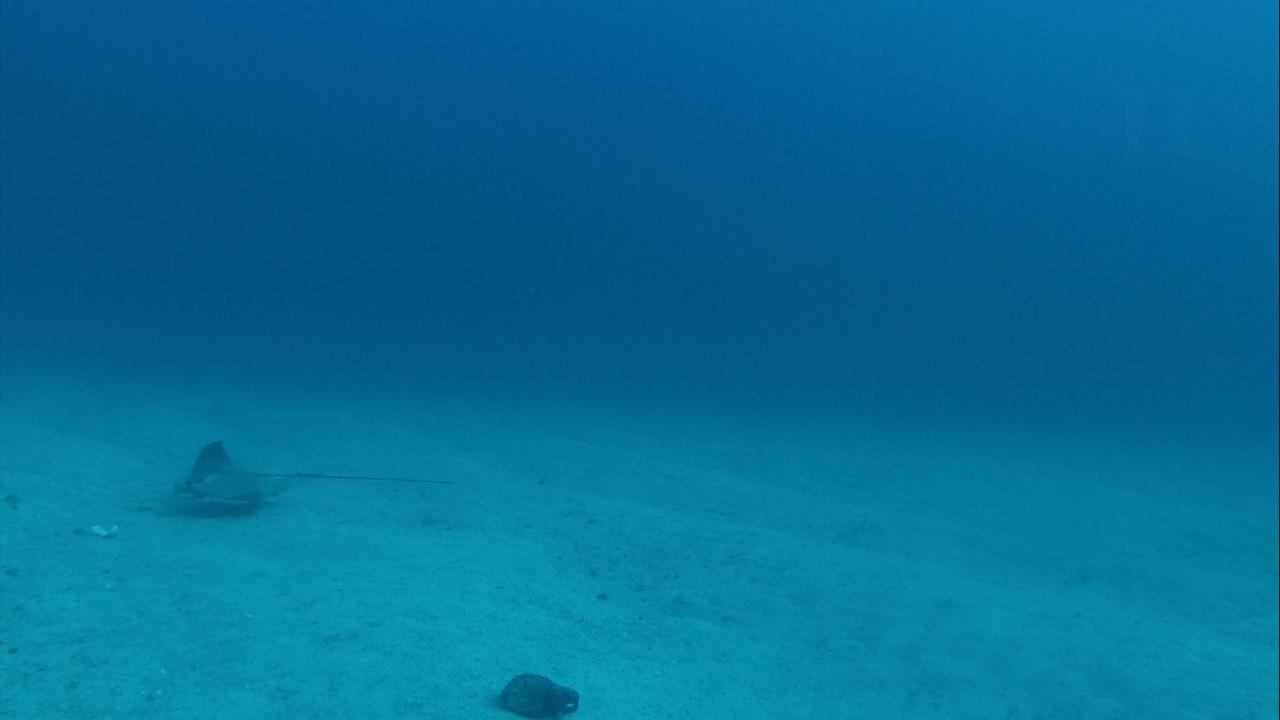myliobatis: (152, 431, 460, 521)
